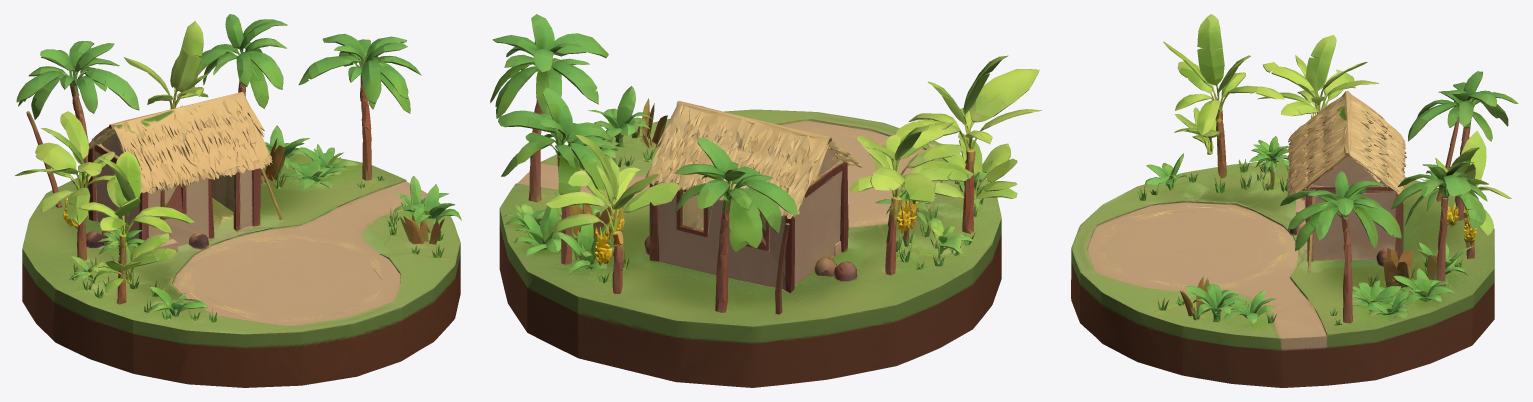
File: 1_Quilombo_Meshy.glb
3 renders of one model, left to right at view 1: azimuth 30°, elevation 25°; view 2: azimuth 150°, elevation 25°; view 3: azimuth 270°, elevation 25°, orthographic. The views are drawn at different scales.
Visible parts, largest first — view 1: Mesh_0; view 2: Mesh_0; view 3: Mesh_0.
Boxes of the visible parts, x1=… form: Mesh_0: x1=15, y1=14, x2=461, y2=387; Mesh_0: x1=490, y1=14, x2=1041, y2=387; Mesh_0: x1=1071, y1=14, x2=1518, y2=387.
Bounding box in the file's own units: 1.83 × 0.9367 × 1.9.
Materials: 1 (1 with a texture image).
